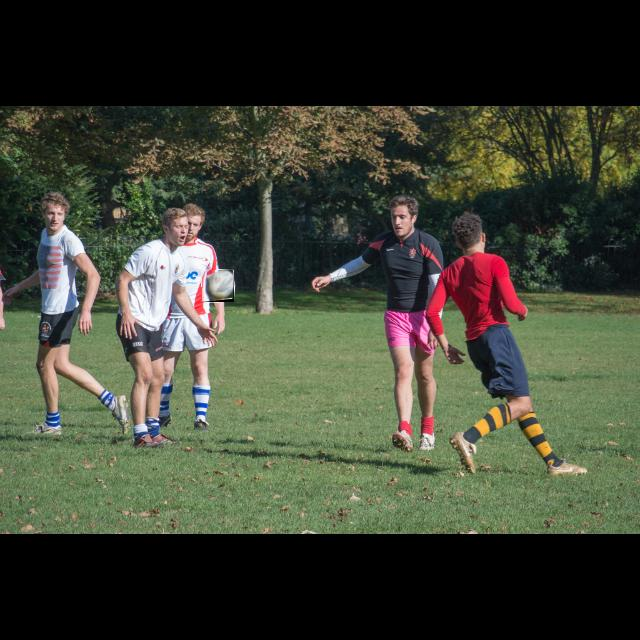Football: (202, 270, 234, 302)
